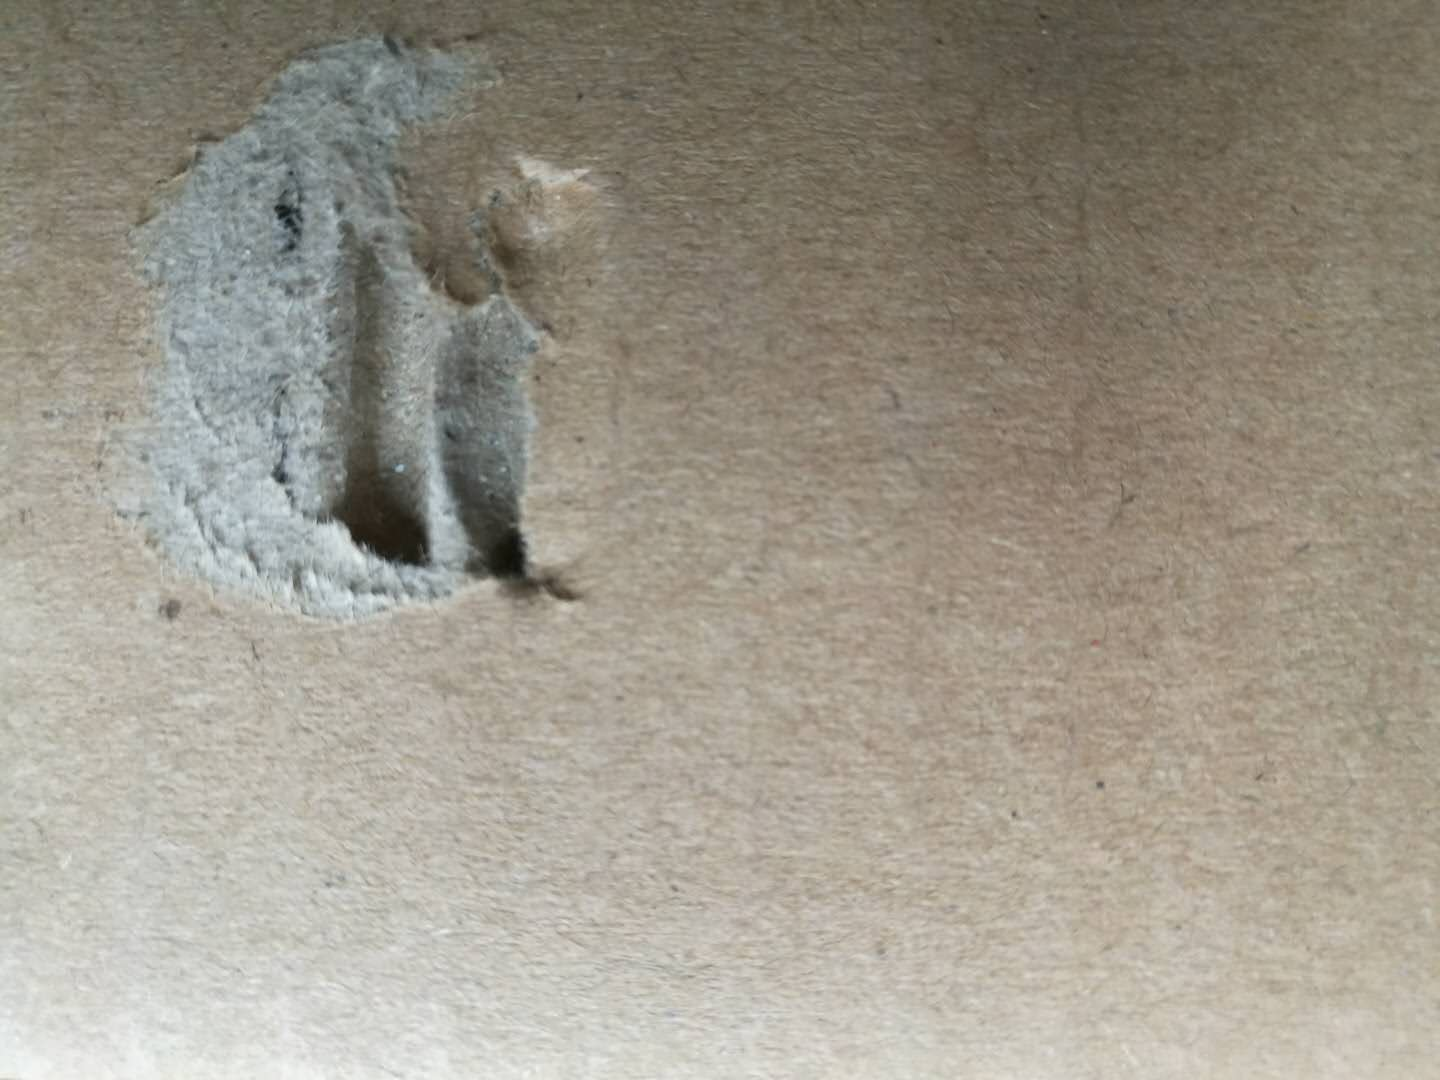defect: (87, 15, 679, 702)
